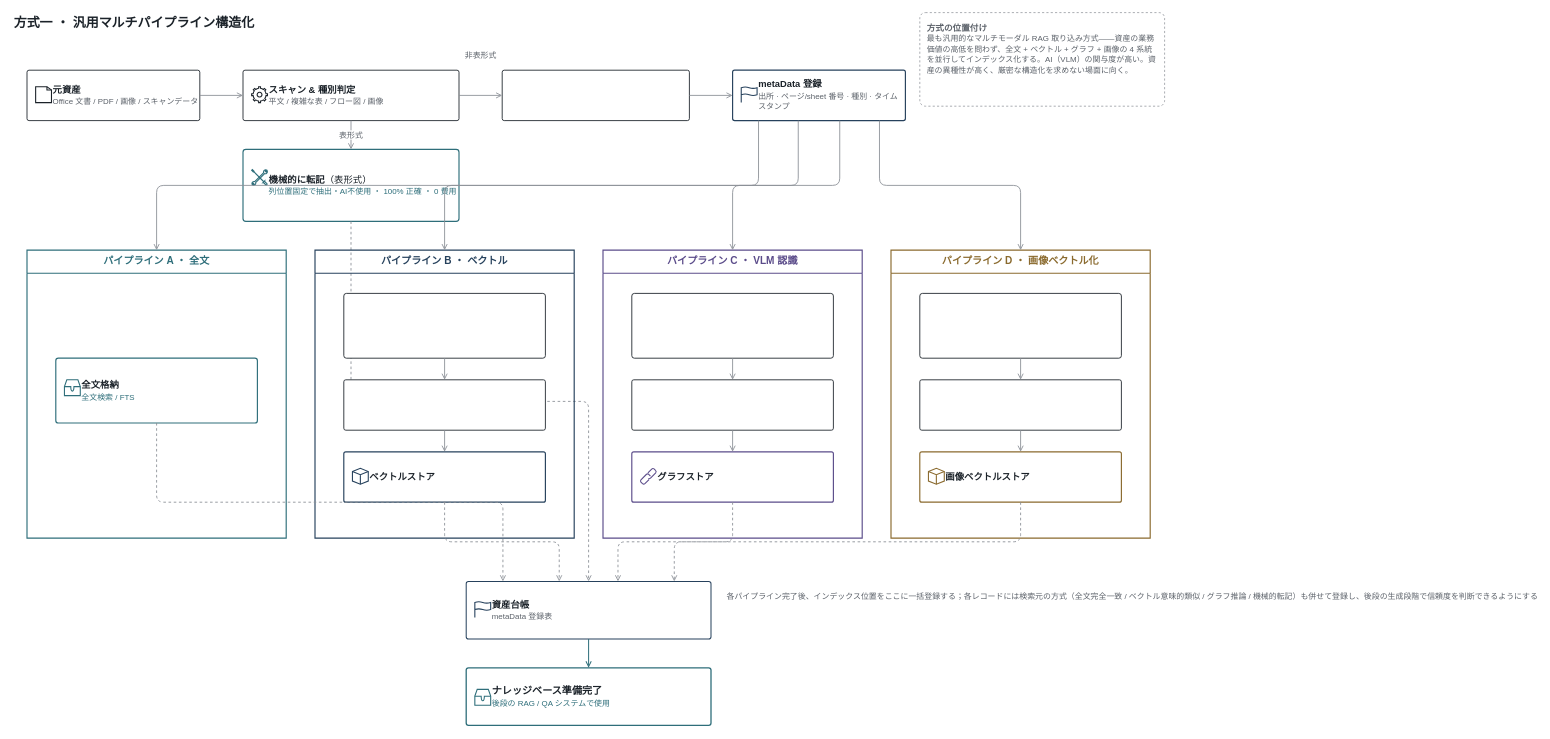
Image size: 1550x739. Some labels were removed from this diagram. Here are the shapes that lost their labels. From the top down, the centre of each, then its label:
At point (595, 95): "文字抽出 + page/sheet → PNG 二重出力：文字 + 画像".
At point (444, 325): "親 block → 子 block → chunk 分割".
At point (732, 325): "VLM 認識 （フロー図 / 複雑な表 / 画像）".
At point (1020, 325): "全画像 （page/sheet の PNG を含む）".
At point (444, 404): "Embedding ベクトル化".
At point (732, 404): "文字化 → graph 化".
At point (1020, 404): "画像ベクトル化 Image Embedding".
